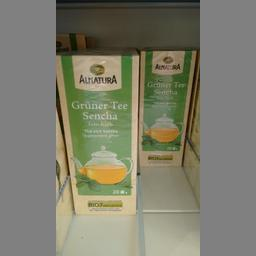tea: (56, 48, 139, 213), (140, 46, 196, 166)
